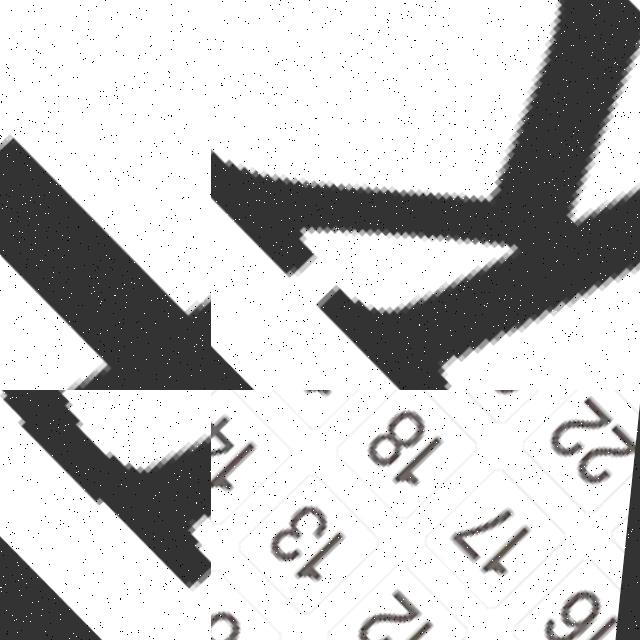1: (287, 515, 377, 603), (475, 509, 560, 591), (385, 425, 468, 505), (211, 429, 281, 503), (386, 603, 464, 640), (561, 597, 628, 640), (294, 390, 379, 411)
2: (538, 390, 626, 467), (569, 417, 640, 499), (346, 579, 435, 640)
3: (261, 485, 350, 571)
4: (211, 398, 258, 481)
6: (540, 576, 622, 640)
7: (452, 488, 530, 563)
8: (348, 392, 443, 484), (211, 594, 264, 640)
D: (0, 390, 211, 640)
F: (0, 0, 211, 390)
K: (211, 0, 640, 390)
